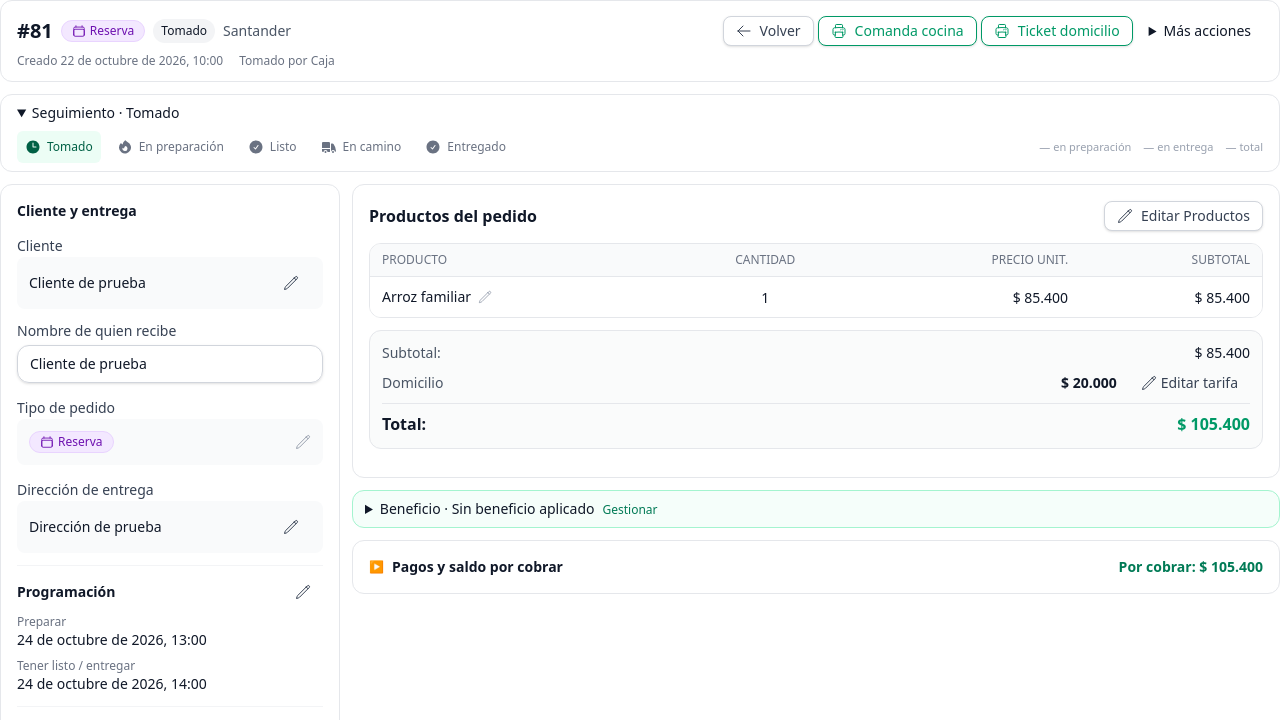
Test: OrderDetailContent presentation and reservation delivery fee › keeps a failed product note draft available for retry
This screenshot has width=1280, height=720.
Click the button named "Editar nota de Arroz familiar" at (485, 297), box [475, 287, 495, 307]
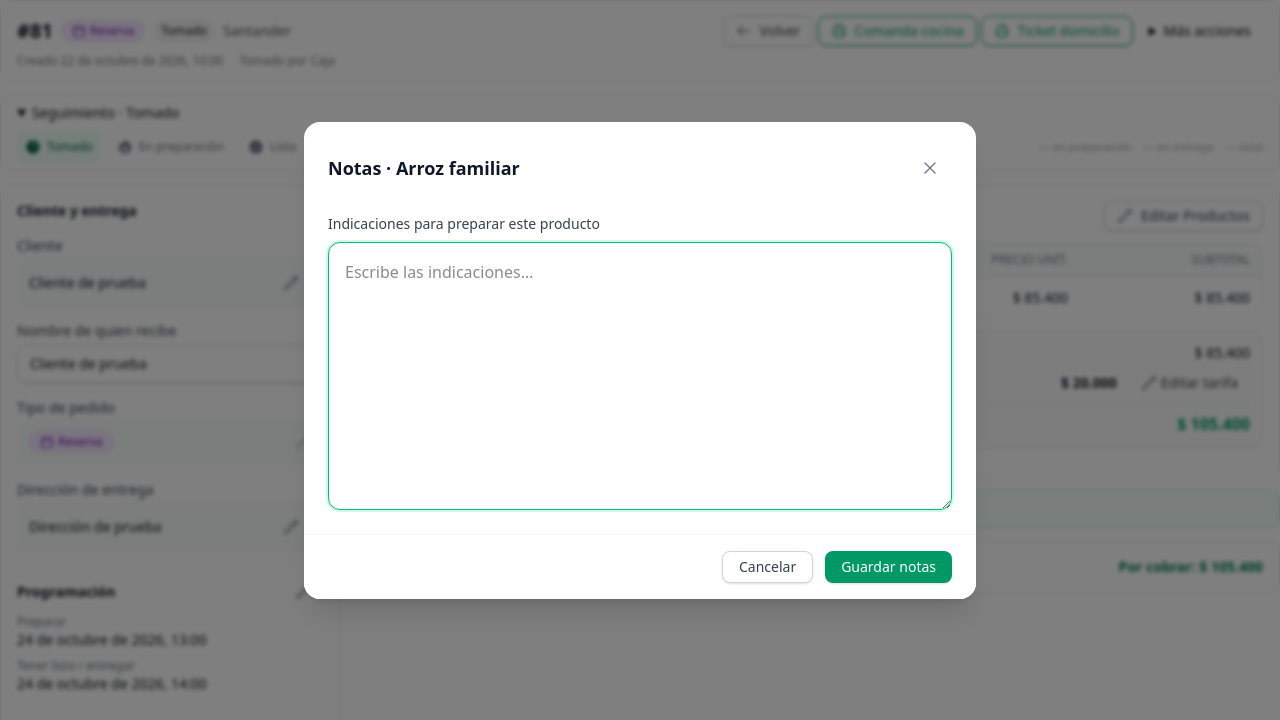
Type "Separar y rotular" into the text box labelled "Indicaciones para preparar este producto" at (640, 376), box [328, 242, 952, 510]
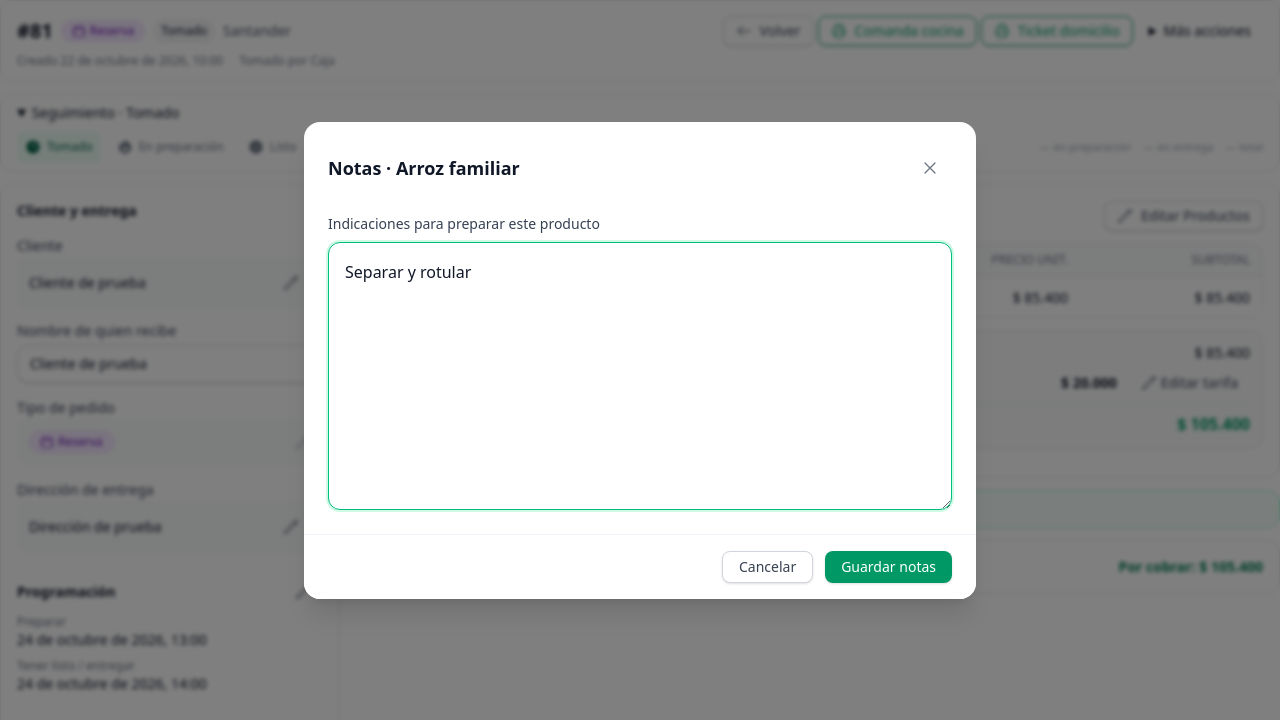
Click the button "Guardar notas" at (889, 566), box [825, 550, 952, 582]
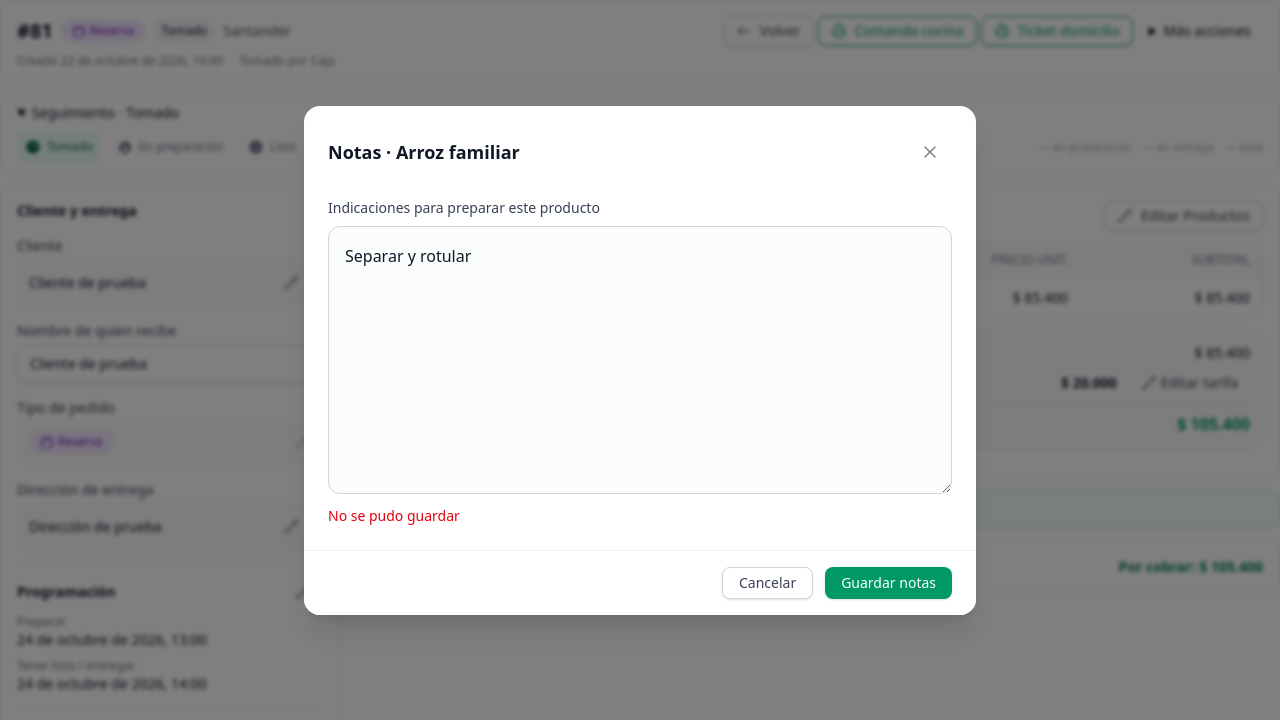
expect the text box labelled "Indicaciones para preparar este producto" holds "Separar y rotular": met, box [328, 226, 952, 494]
expect the dialog shows "No se pudo guardar": met, box [328, 506, 460, 524]
